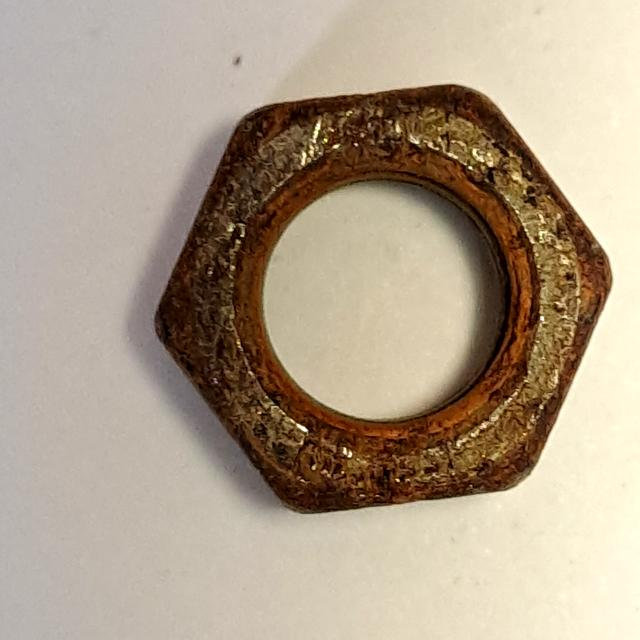Rust: (134, 72, 623, 528)
